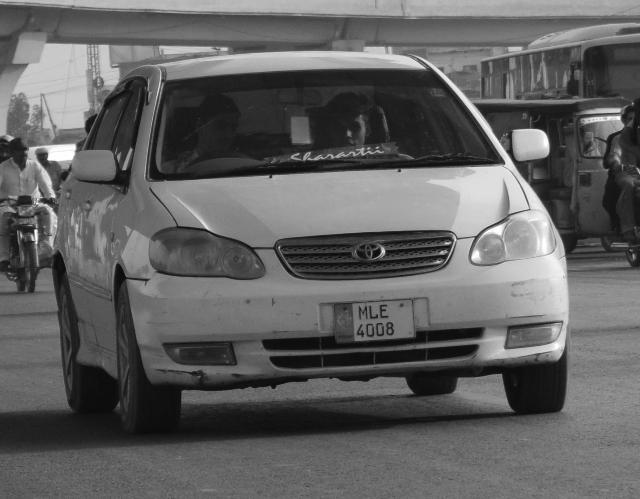Number: (357, 304, 398, 340)
